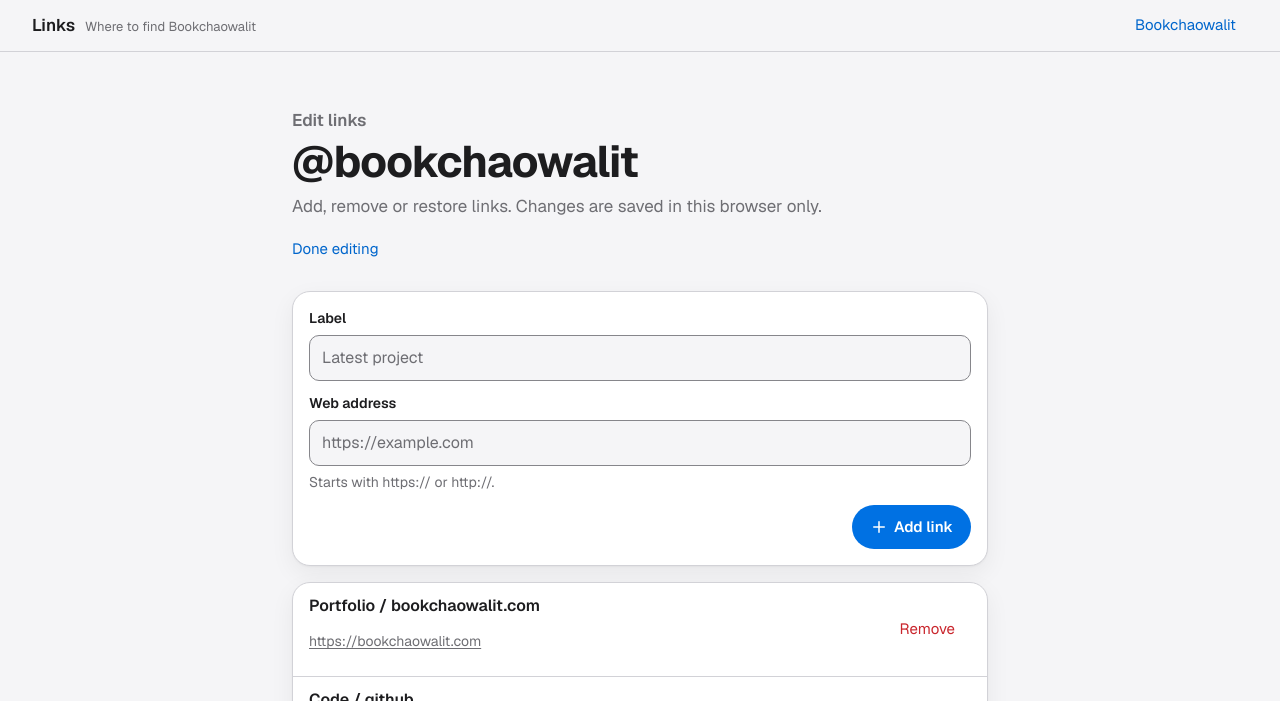
it: owner editor at /edit › Undo checks the saved list first, so a change from another tab is kept even before its storage event
The width and height of the screenshot is (1280, 701).
Click the button "Remove" in the row of "Portfolio / bookchaowalit.com" at x=927, y=630, box [888, 608, 967, 652]
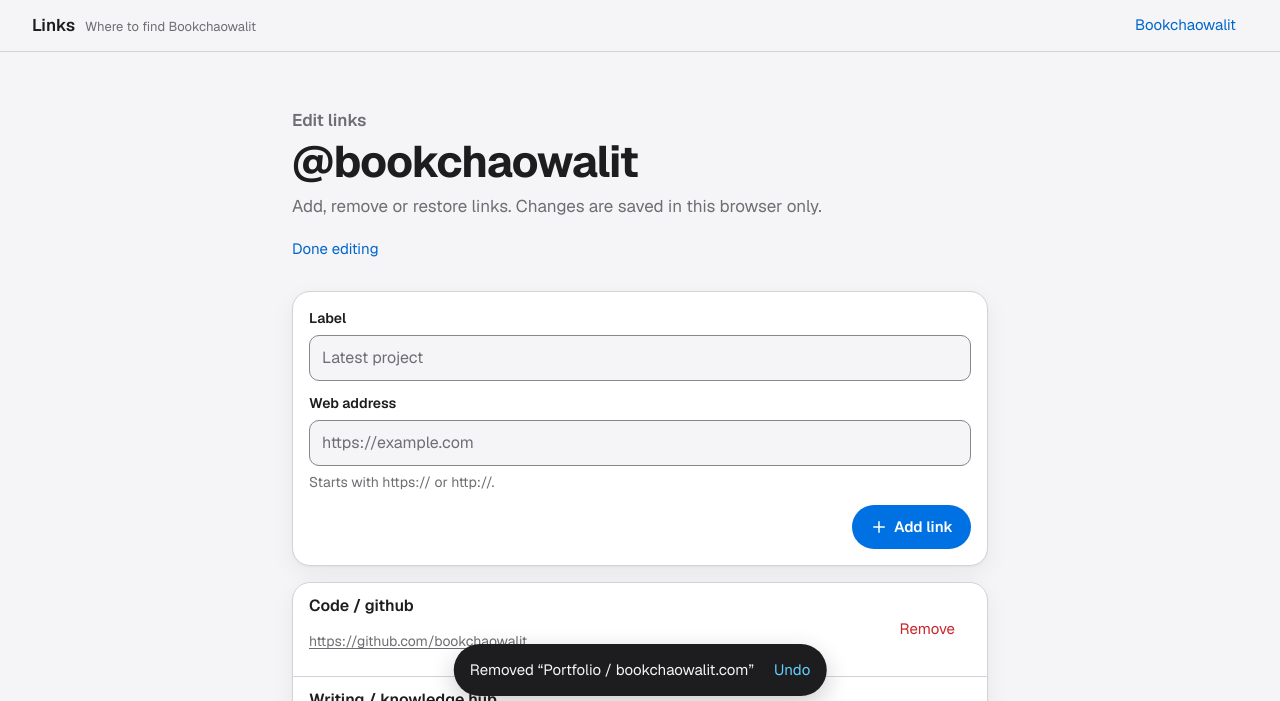
Click the button "Undo" at x=792, y=670, box [762, 648, 822, 692]
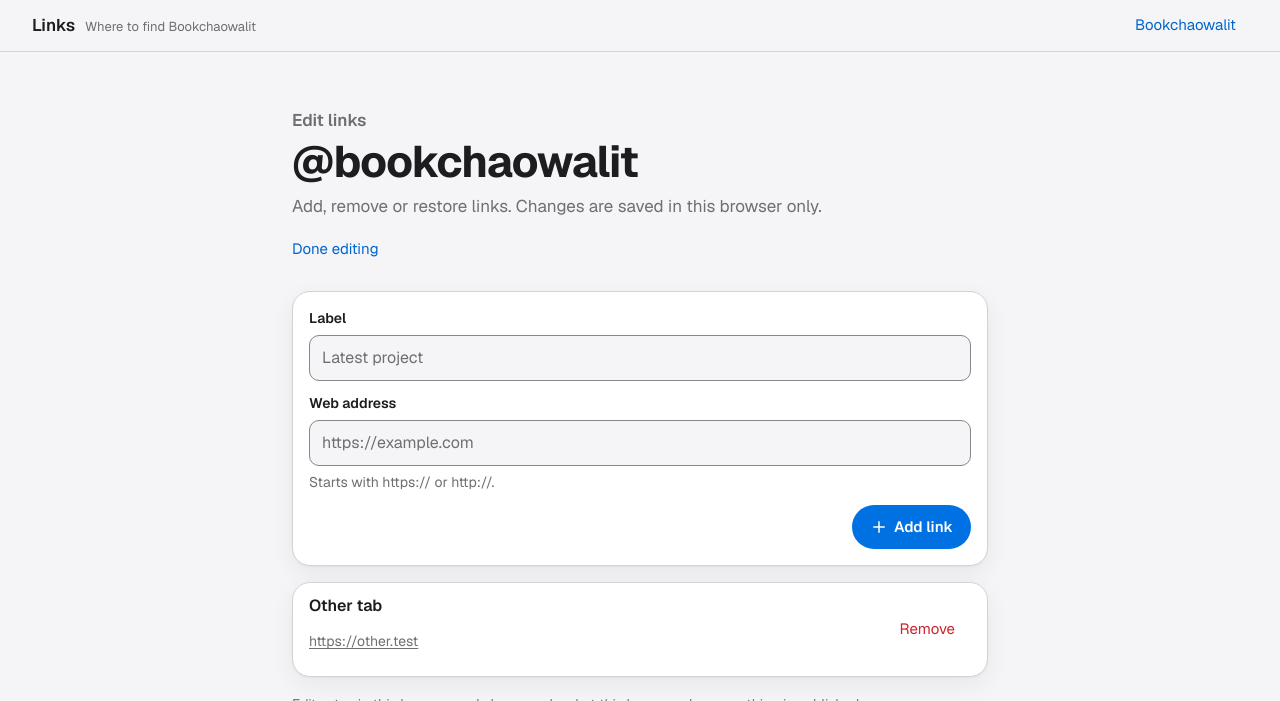
Result: the element with class "as-toast" is gone
